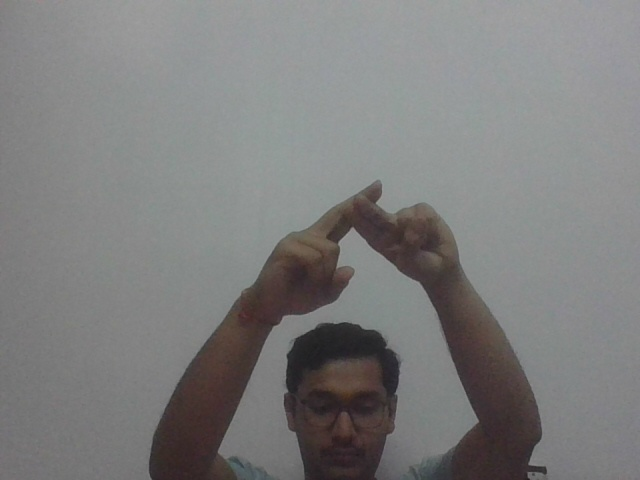F: (260, 176, 468, 317)
